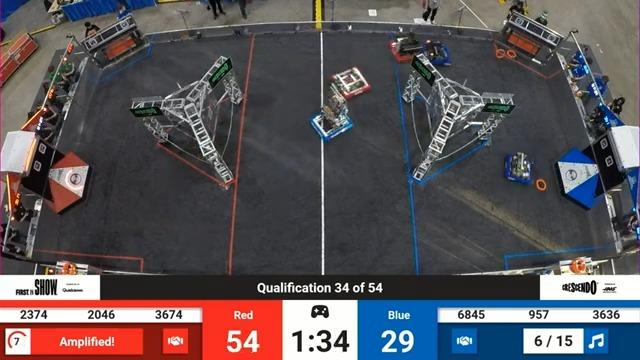robot: (301, 95, 352, 144), (383, 23, 428, 64), (323, 65, 373, 100), (503, 145, 539, 186), (421, 38, 456, 69)
